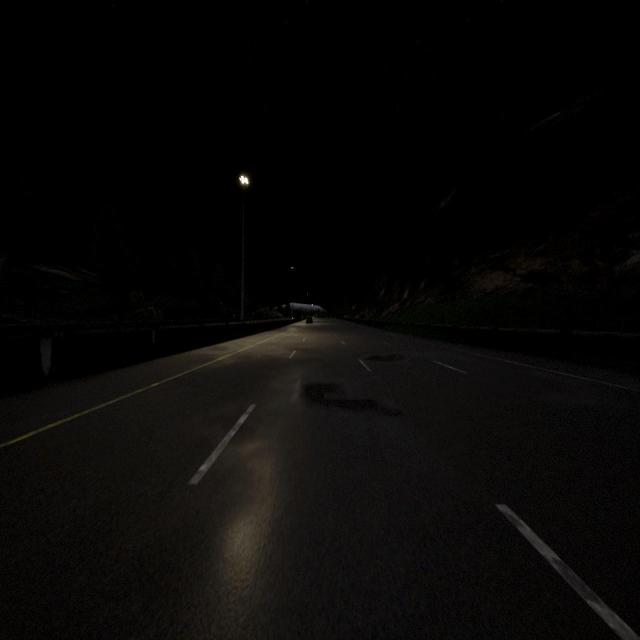Vehicle: (306, 316, 313, 324)
